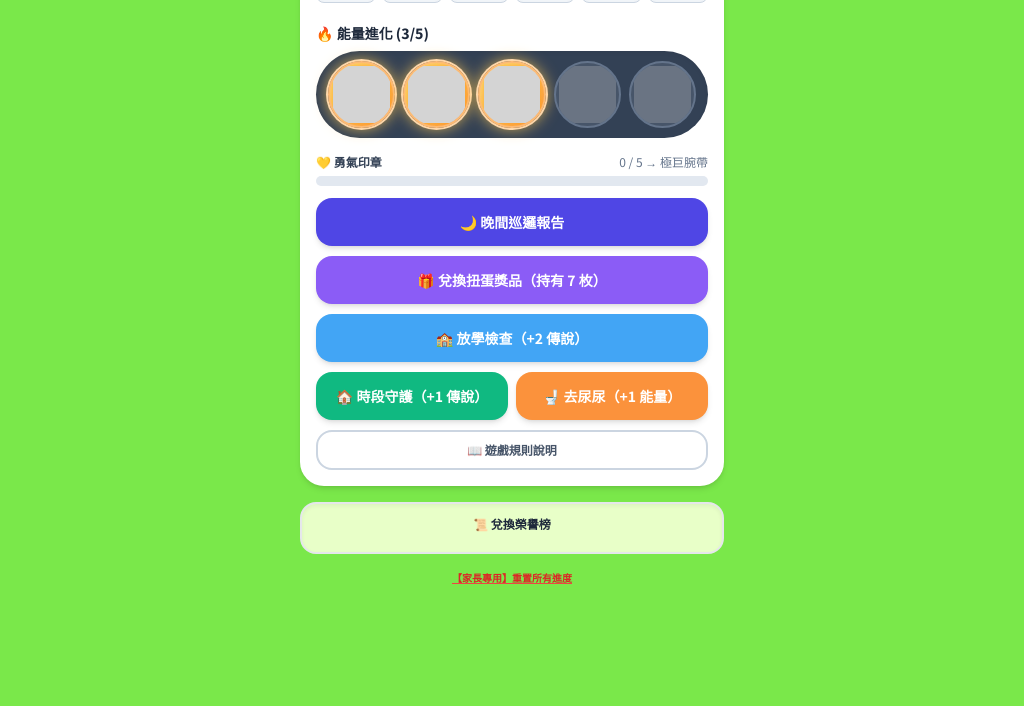
it: DryPantsApp 重置按鈕：非樂觀更新 › resetCollectionState 失敗 → 狀態不清零、顯示錯誤訊息、無假成功訊息
The image size is (1024, 706).
(page scrolled)
Click the button "【家長專用】重置所有進度" at (512, 577), box [452, 570, 572, 585]
(page scrolled)
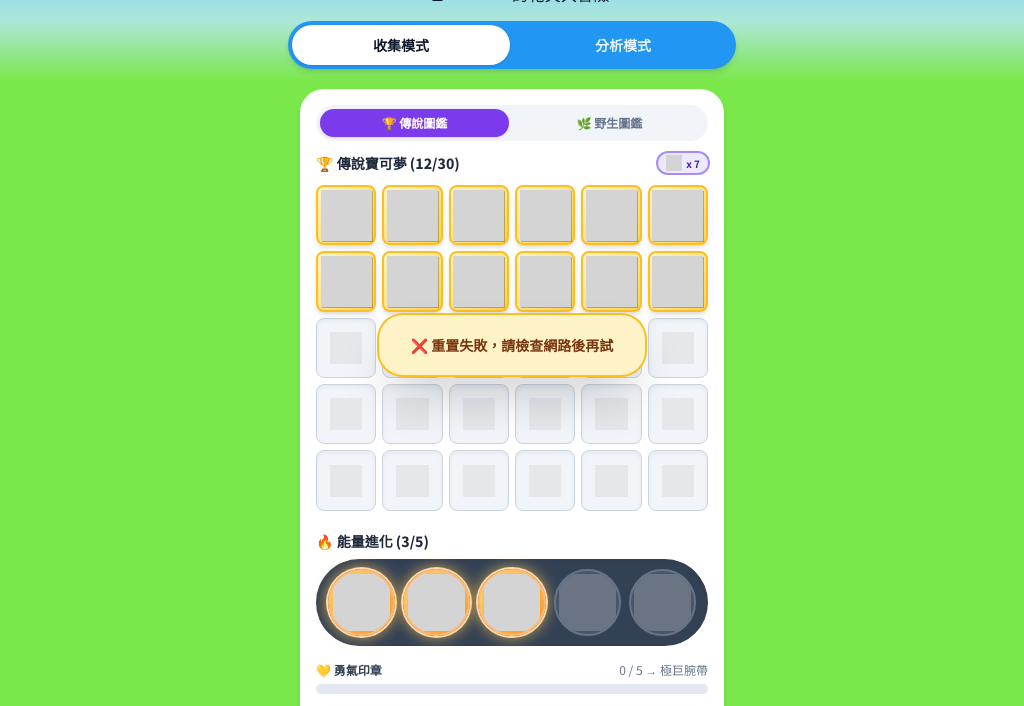
Check: the text "x 7" is shown, box [658, 153, 708, 173]
Check: the text "❌ 重置失敗，請檢查網路後再試" is shown, box [379, 315, 645, 375]
